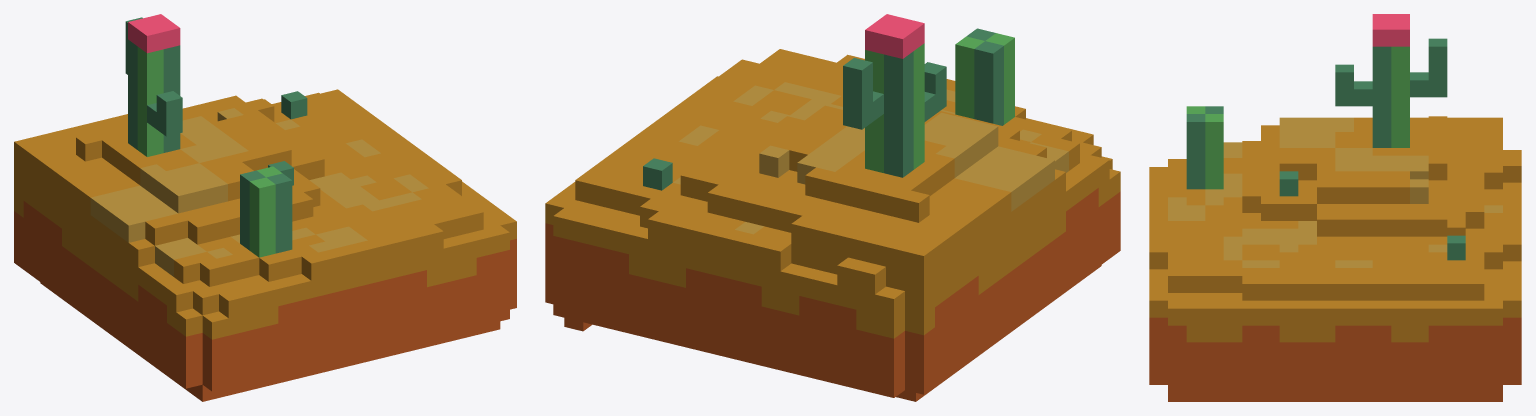
The model's file is sand2.glb.
The picture shows the model from 3 angles, left to right: view 1: azimuth 30°, elevation 25°; view 2: azimuth 150°, elevation 25°; view 3: azimuth 270°, elevation 25°; orthographic projection. The views are drawn at different scales.
Visible parts, largest first — view 1: sand2.vox.001; view 2: sand2.vox.001; view 3: sand2.vox.001.
Boxes of the visible parts, x1,y1,x2,y2 form: sand2.vox.001: (14,14,516,401); sand2.vox.001: (545,14,1120,401); sand2.vox.001: (1149,14,1521,401).
Bounding box in the file's own units: 2 × 1.6 × 2.
1 material, 1 textured.
